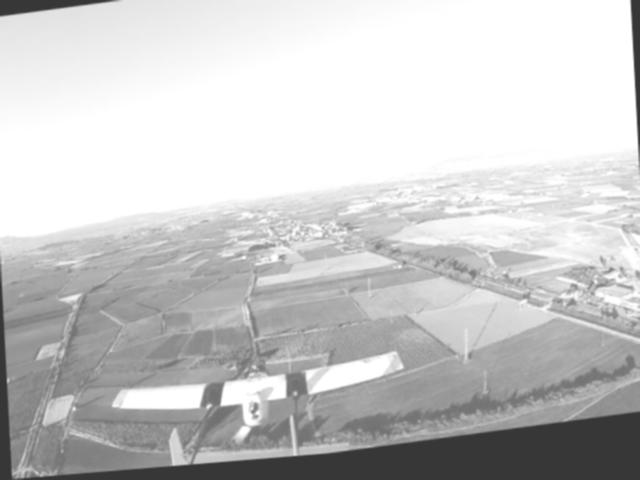hedef: (113, 332, 400, 473)
